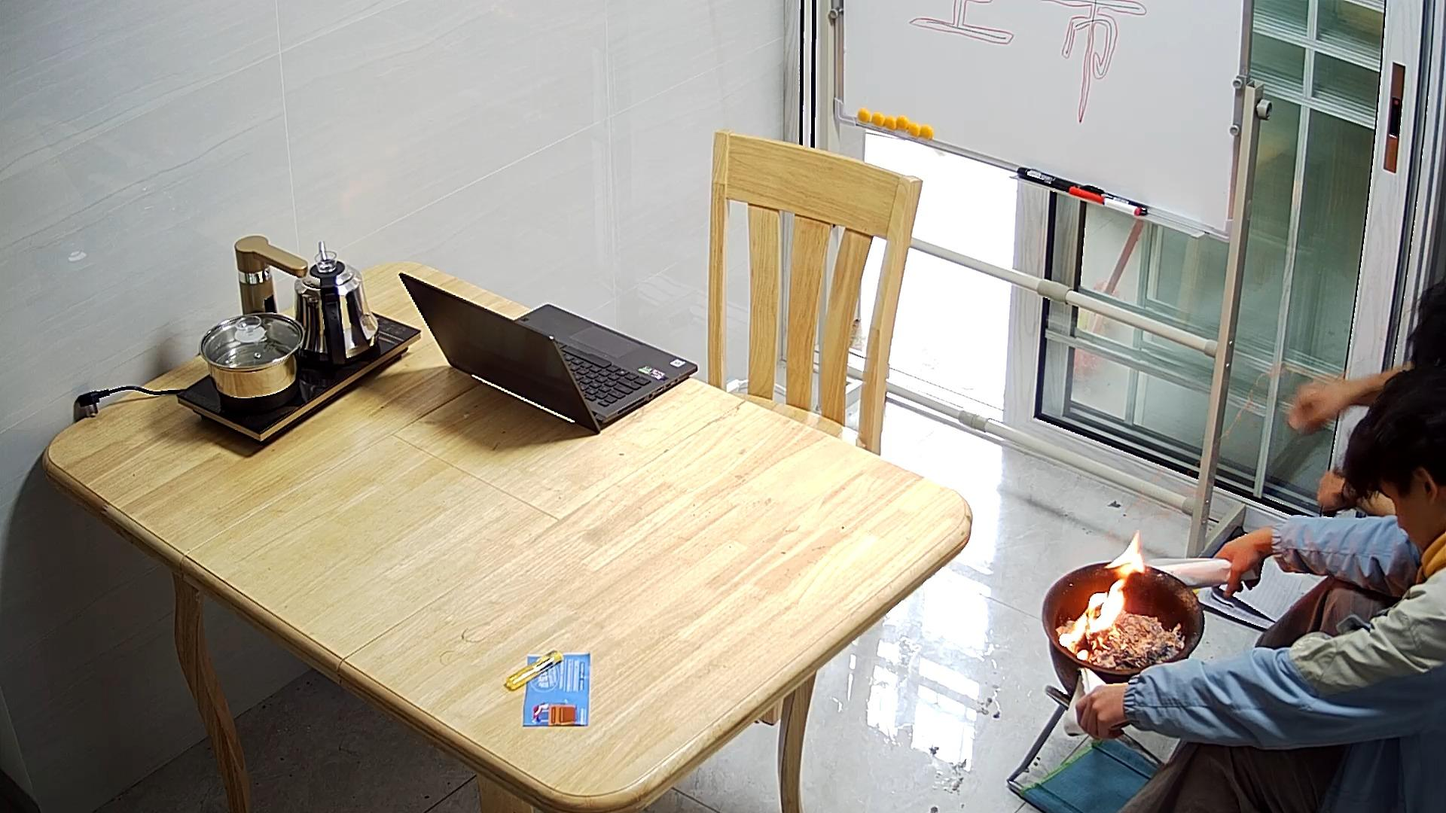fire: (1066, 534, 1146, 648)
